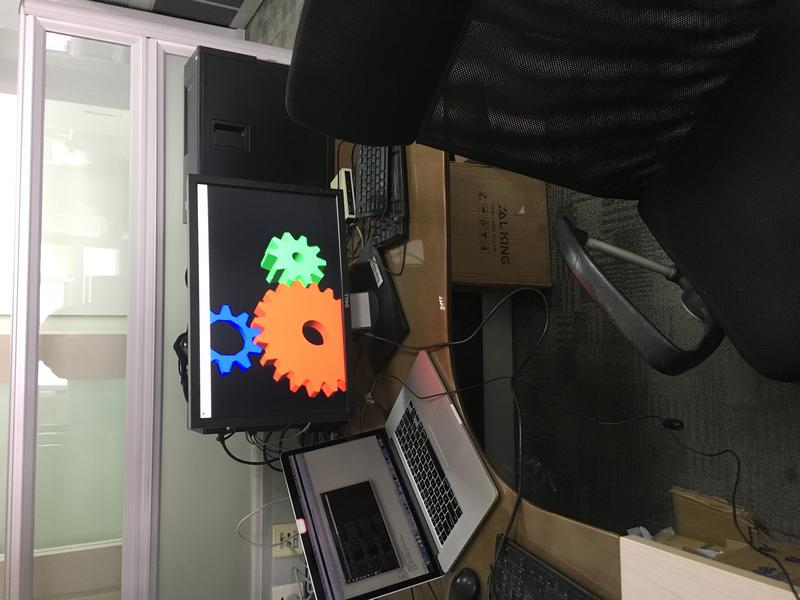glxgears_pass: (210, 229, 345, 406)
